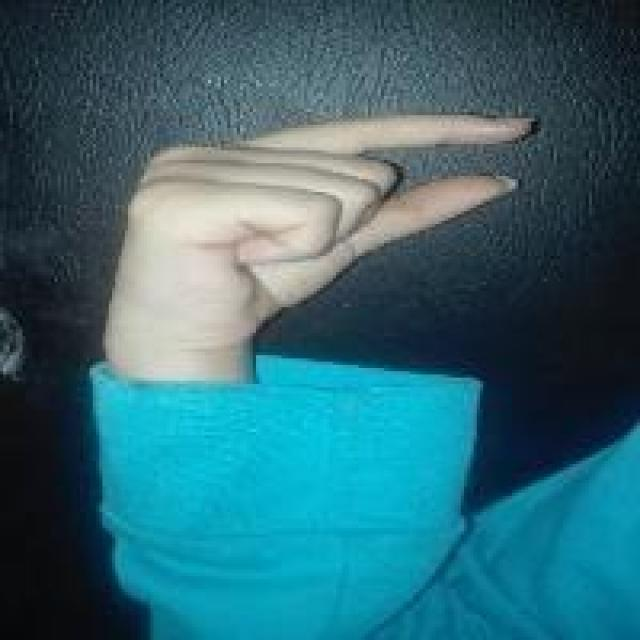G: (105, 106, 538, 327)
